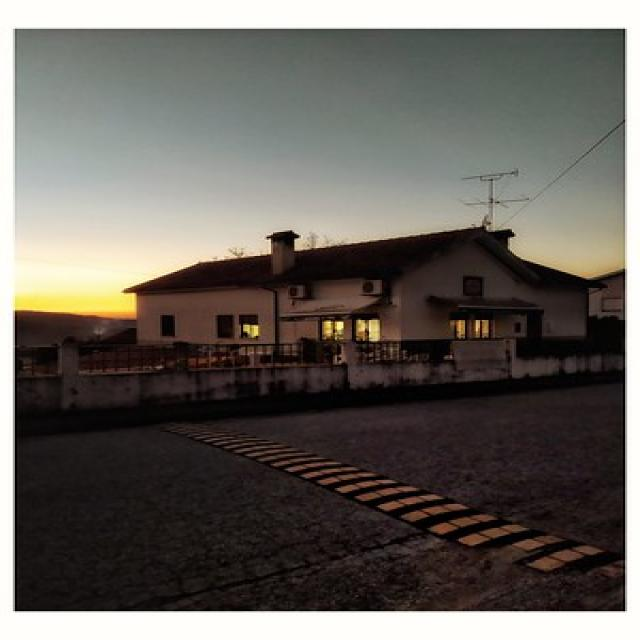building: (116, 223, 607, 366)
